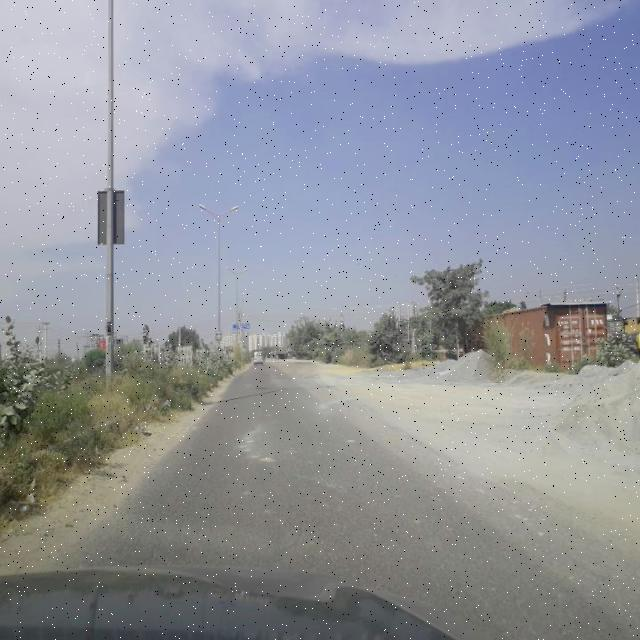D00: (135, 486, 194, 564)
